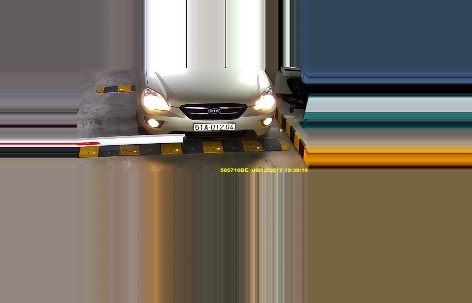plate: (192, 121, 236, 133)
